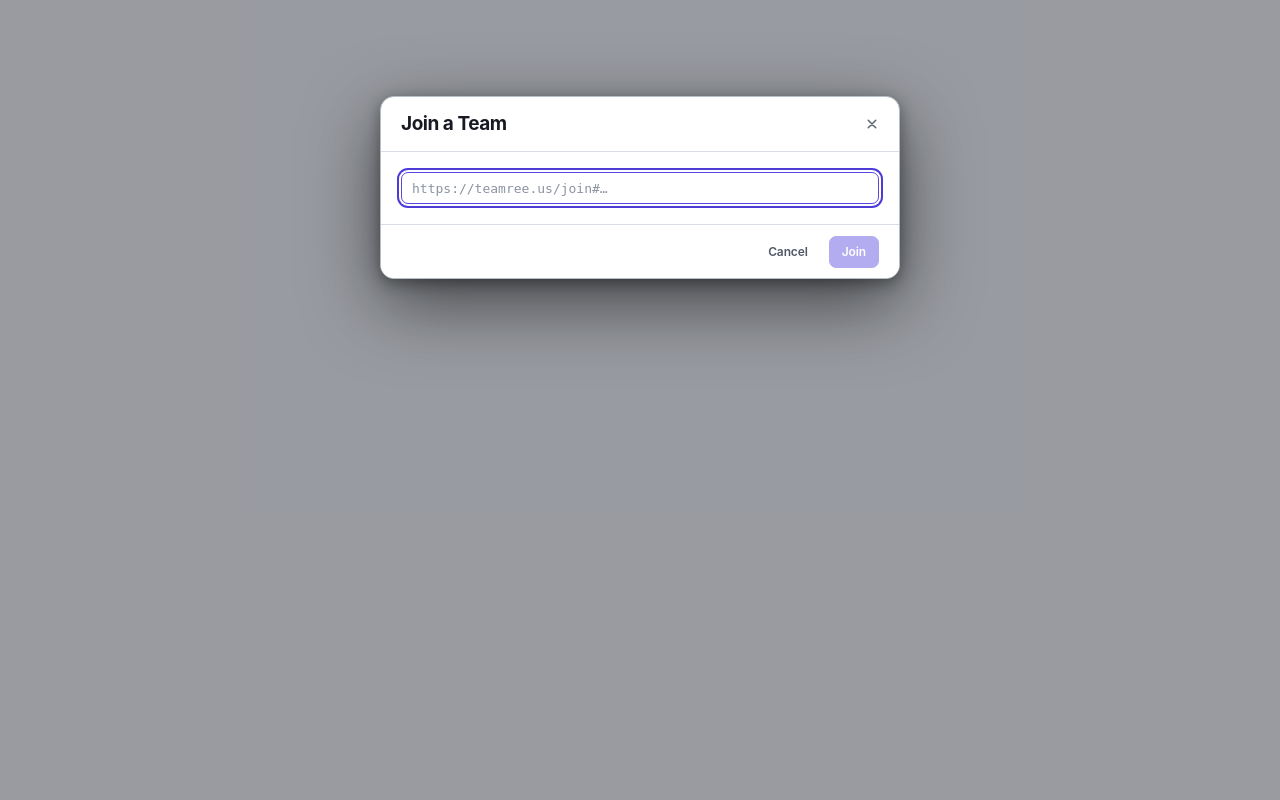
Test: Join a Team… › says why not only when Join is pressed on something that is not an invitation
This screenshot has width=1280, height=800.
In the field named "Invitation": (640, 188) 401,172 -> 879,204, type "see you tomorrow"
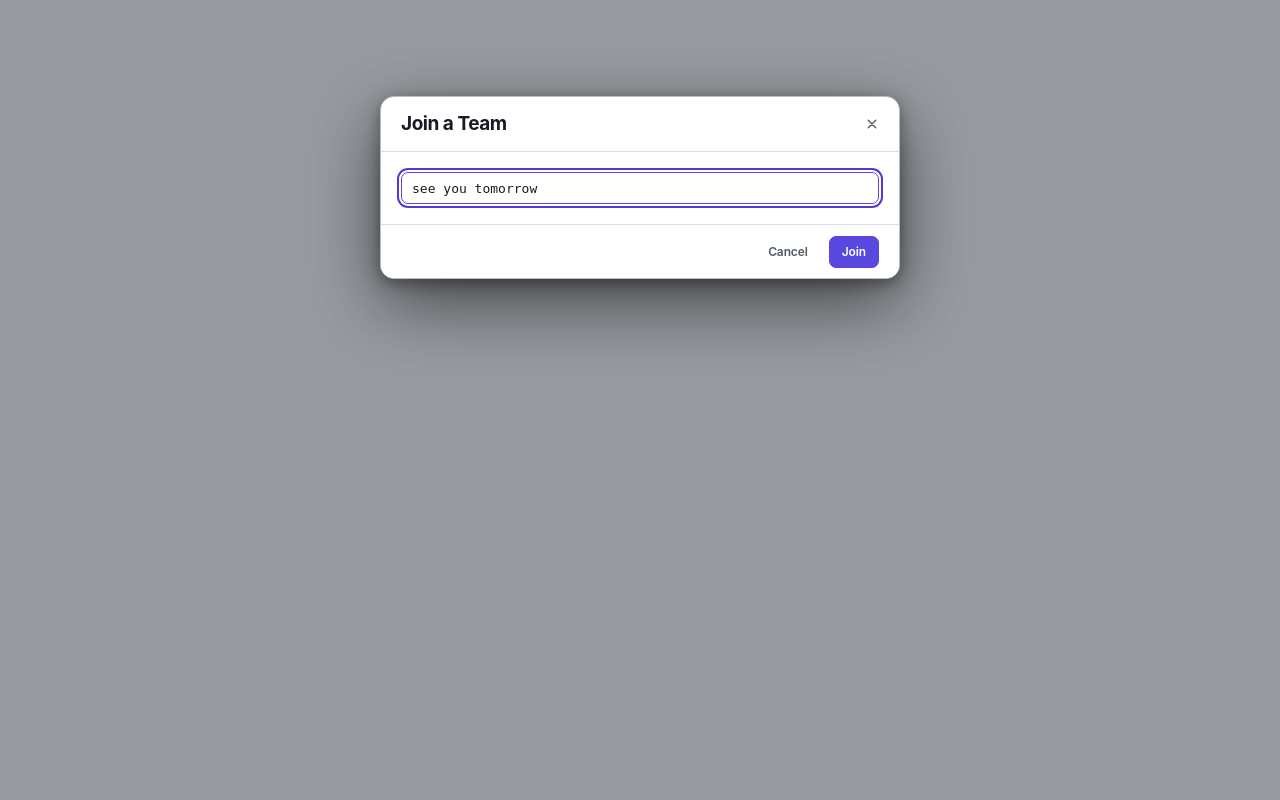
Click the button "Join": (854, 252) 829,236 -> 879,268
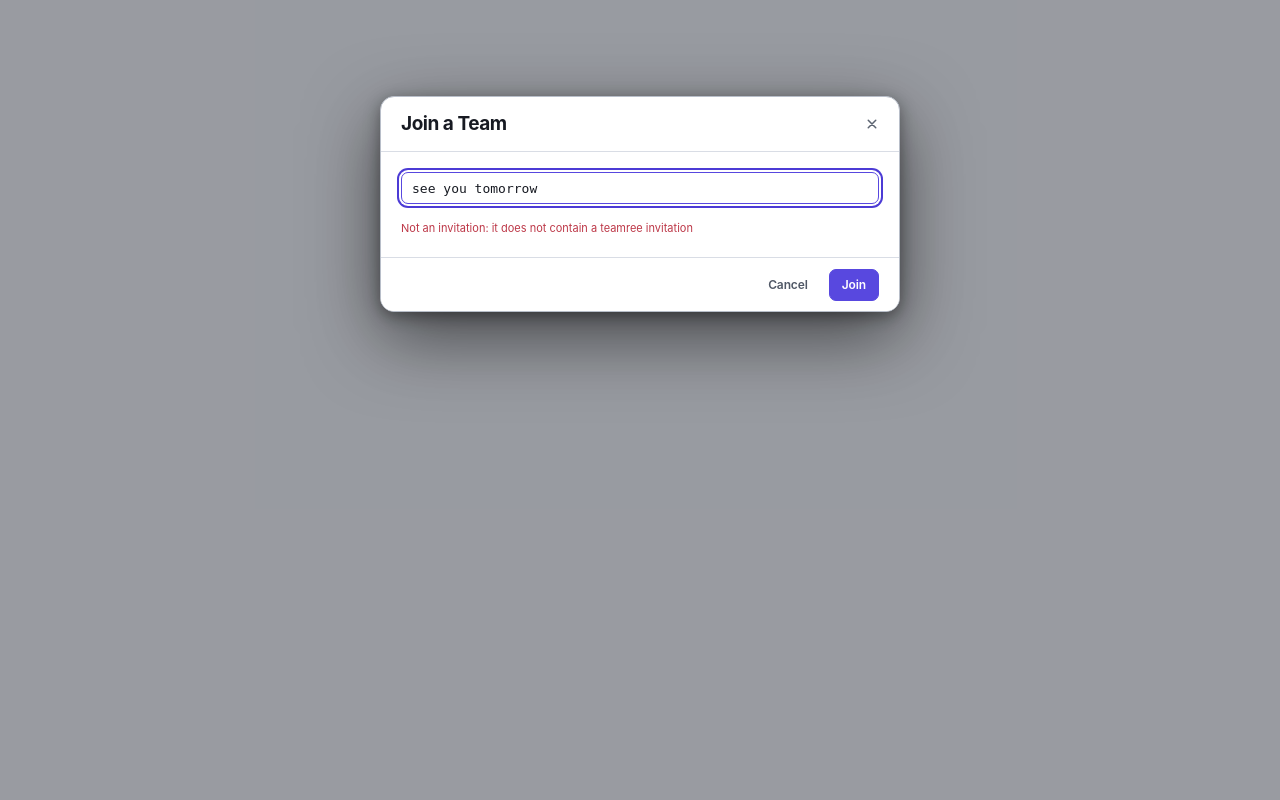
Now the message shows "Not an invitation:", box 401,221 -> 693,235
